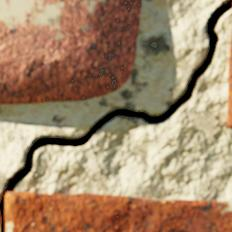brick: (0, 0, 141, 104), (5, 191, 231, 231), (226, 28, 231, 127)
crack: (0, 0, 231, 231)
